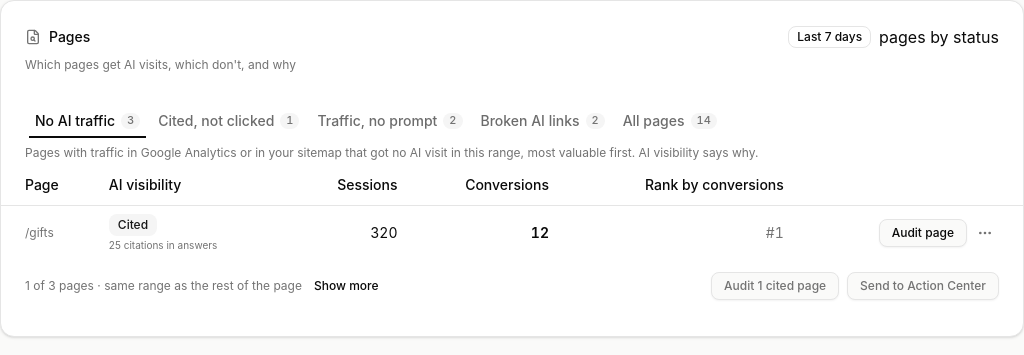
Scenario: PagesCard › never shows one list's rows under another's columns while it loads
The width and height of the screenshot is (1024, 355).
Click the tab "Traffic, no prompt 2". click: (390, 121)
box: [310,108,470,134]
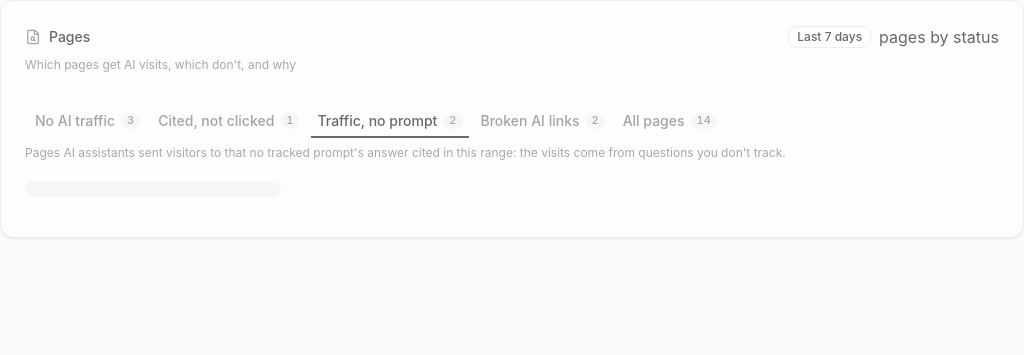
Now the text "/gifts" is gone
Now the text "Show more" is gone
Now the table is gone
